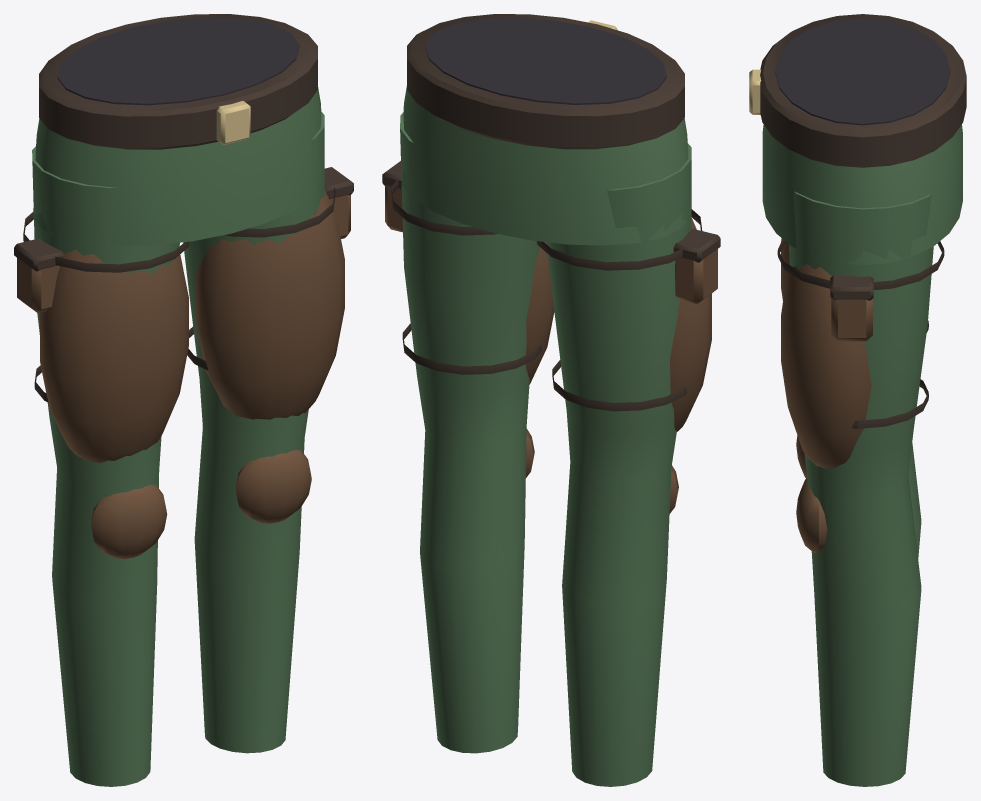
Rendered from longstrider_leggings.glb.
3 renders of one model, left to right at view 1: azimuth 30°, elevation 25°; view 2: azimuth 150°, elevation 25°; view 3: azimuth 270°, elevation 25°, orthographic. The views are drawn at different scales.
Visible parts, largest first — view 1: longstrider_leggings; view 2: longstrider_leggings; view 3: longstrider_leggings.
Part boxes in pixels (x1,y1,x2,y2): longstrider_leggings: [14, 14, 353, 786]; longstrider_leggings: [382, 14, 720, 786]; longstrider_leggings: [749, 14, 966, 786].
Bounding box in the file's own units: 0.3418 × 0.7066 × 0.2084.
